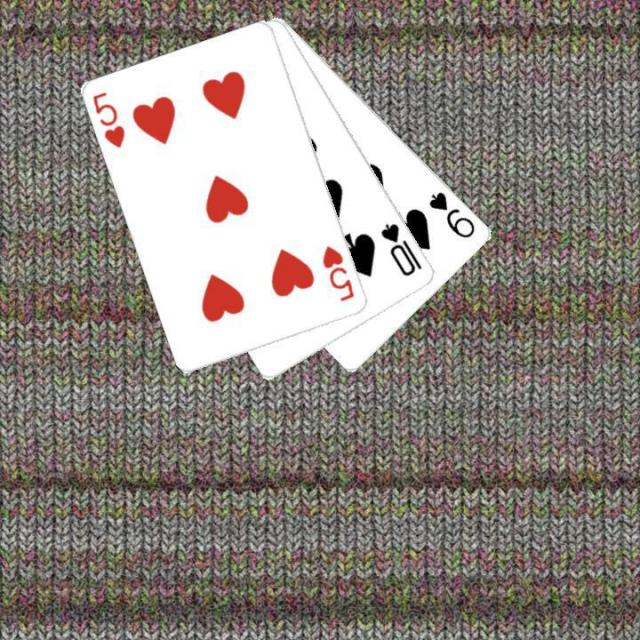10S: (377, 220, 425, 278)
5H: (319, 242, 357, 304), (89, 88, 127, 150)
9S: (425, 188, 477, 240)
